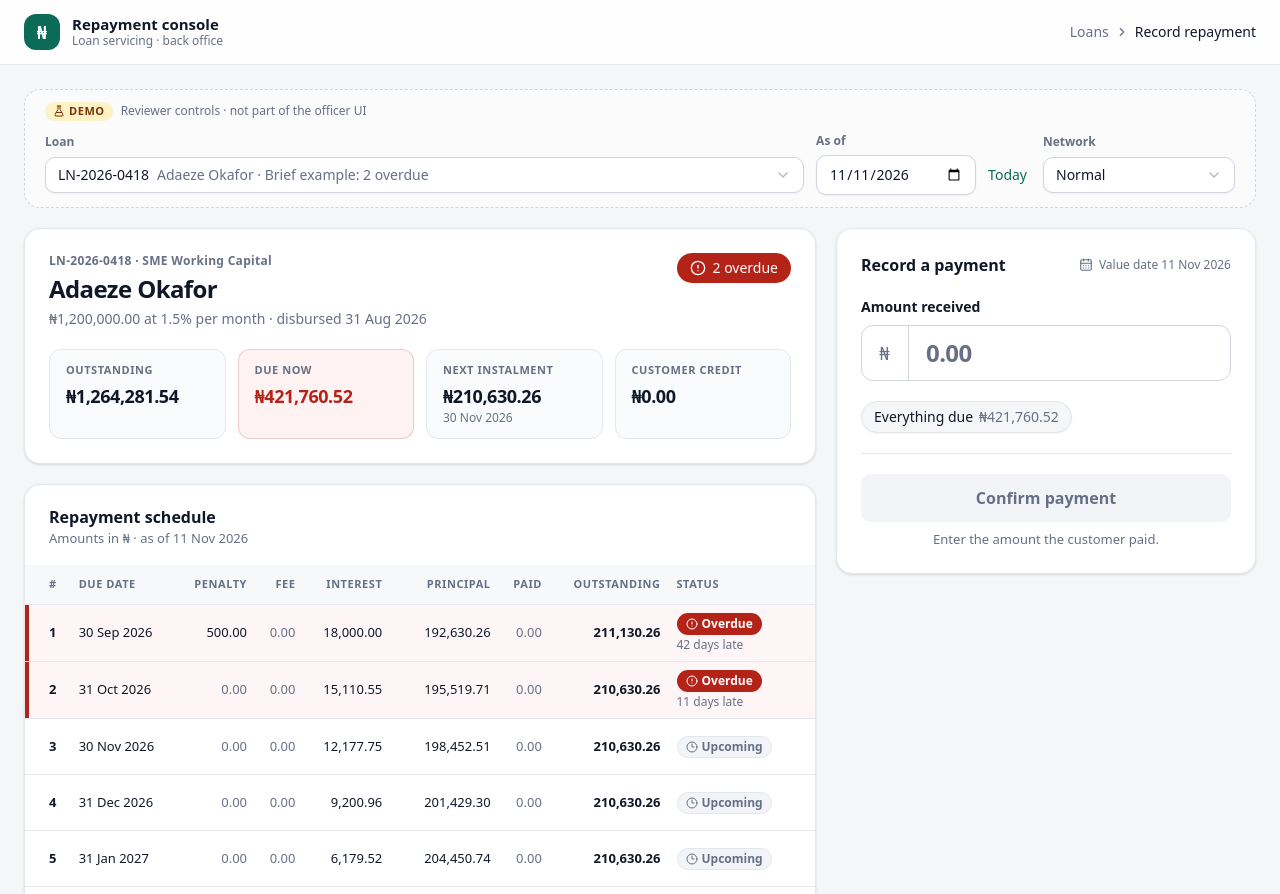
Test: Network states › refuses to post if the loan changed after the preview
The image size is (1280, 894).
Later steps or results of the test are not shown.
Check: the heading "Adaeze Okafor" is shown, box [49, 272, 217, 305]
In the field labelled "Amount received": (1046, 353) [861, 325, 1231, 381], type "1000"
(page scrolled)
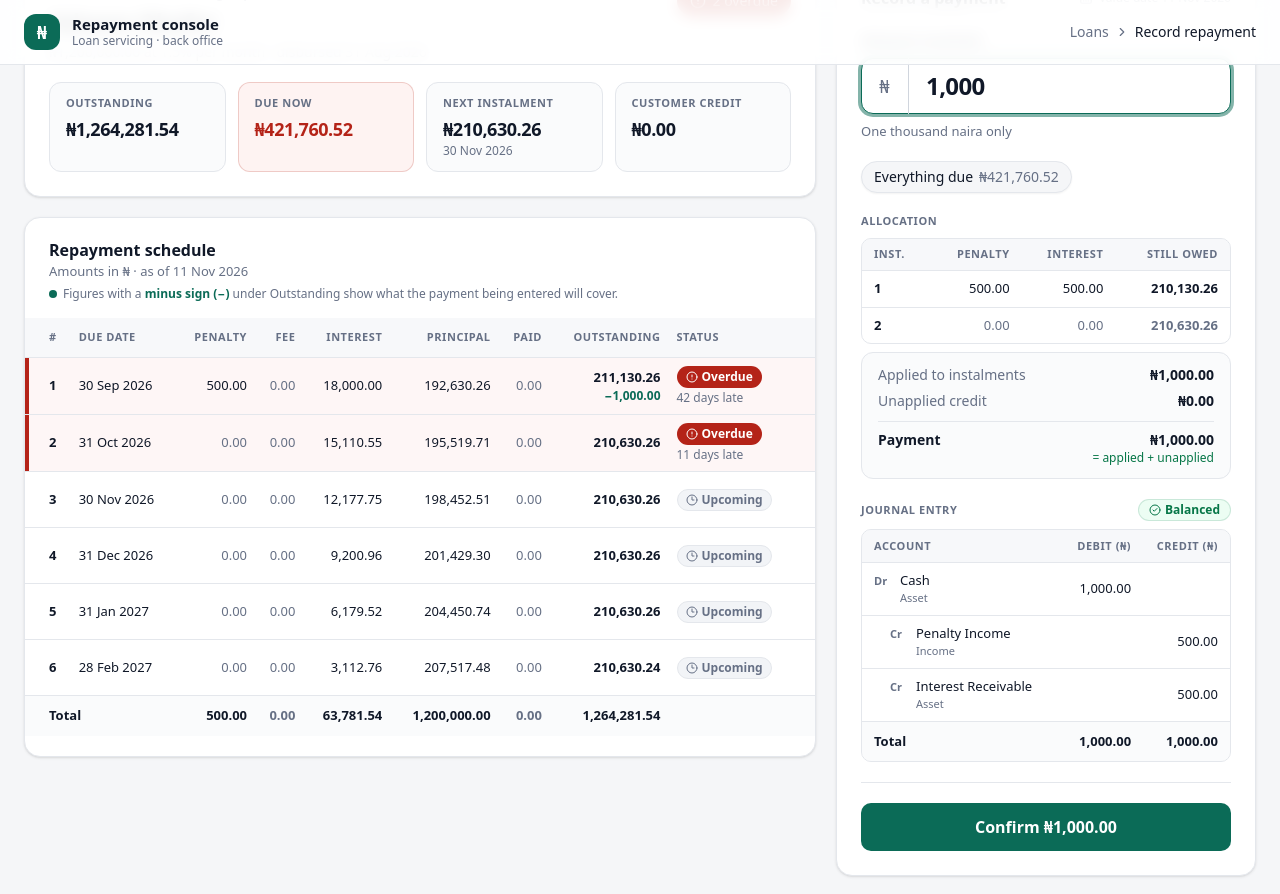
Click the button "Confirm ₦1,000.00": (1046, 827) [861, 803, 1231, 851]
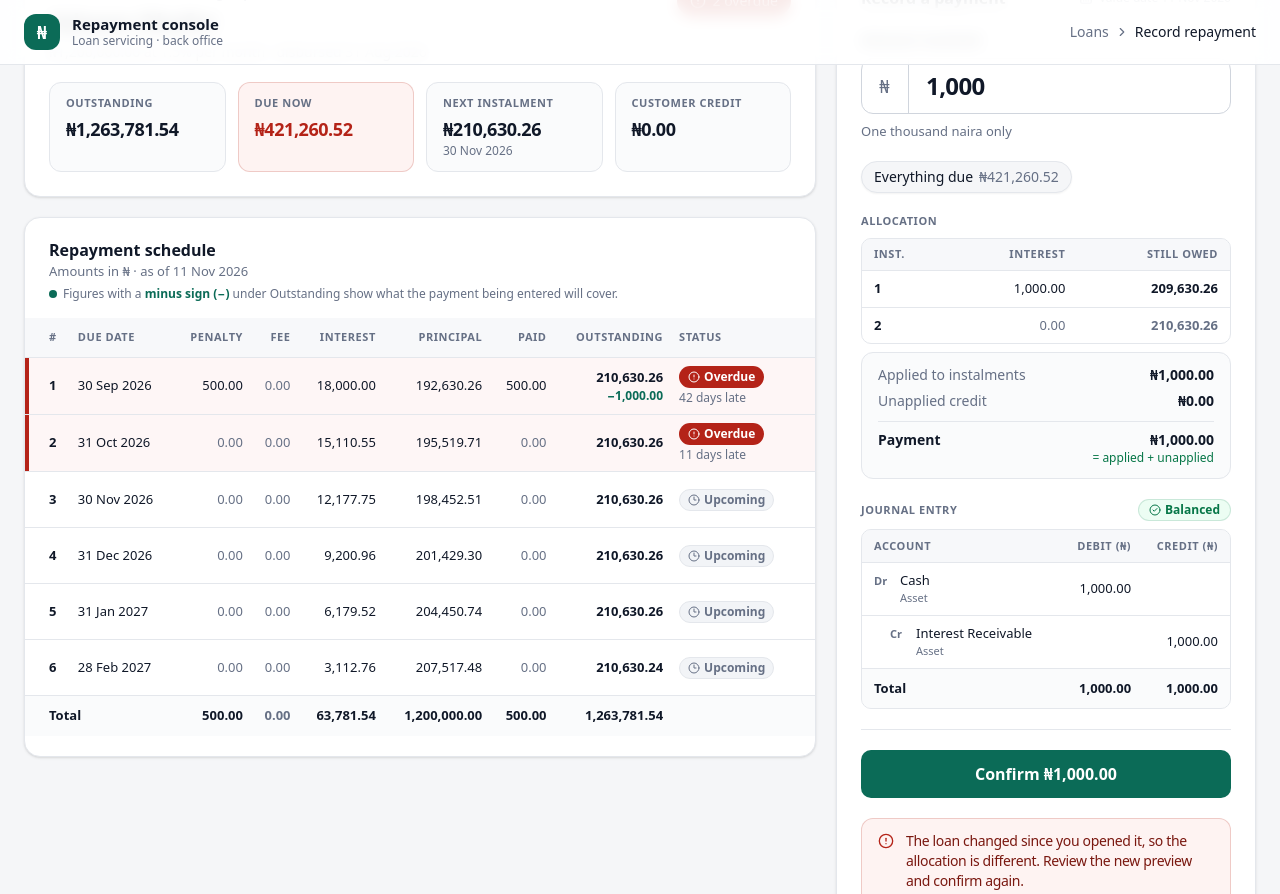
Check: the column heading "Interest" next to "Inst." is shown, box [950, 239, 1073, 271]
Check: the message shows "loan changed since you opened it", box [906, 831, 1192, 890]
